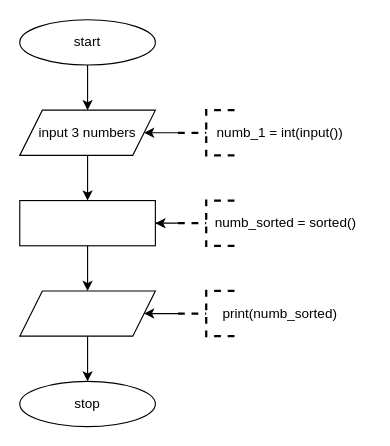
Some shapes in this 390 by 446 pixel diagram are drawn without their labels. Each missing label, with the box of its shape:
print the sorted numbers: (19, 290, 155, 336)
sort in a list: (19, 199, 155, 246)
